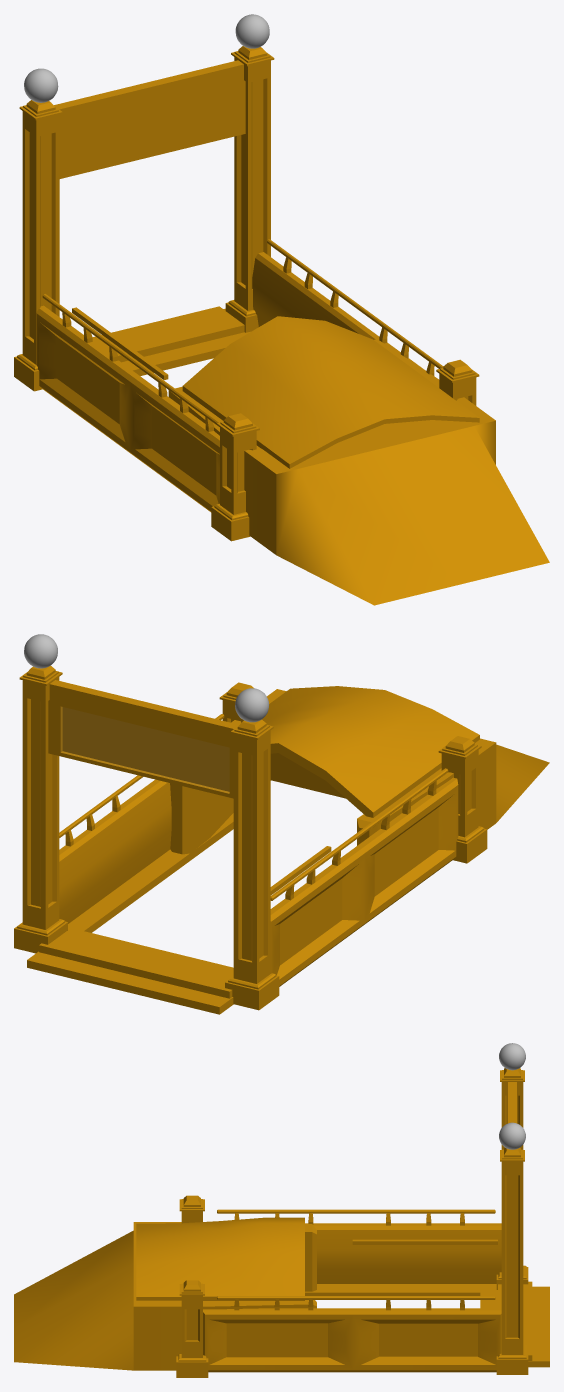
The model's file is Asset_SubwayEntrance.fbx.
3 views of the same model, one above another, from view 1: azimuth 30°, elevation 25°; view 2: azimuth 150°, elevation 25°; view 3: azimuth 270°, elevation 25° (orthographic). The views are drawn at different scales.
Visible parts, largest first — view 1: TrainTunnelEntrance01; view 2: TrainTunnelEntrance01; view 3: TrainTunnelEntrance01.
Boxes of the visible parts, x1,y1,x2,y2 form: TrainTunnelEntrance01: (14, 14, 549, 605); TrainTunnelEntrance01: (14, 634, 549, 1014); TrainTunnelEntrance01: (14, 1043, 549, 1377).
Bounding box in the file's own units: 2.98 × 3.51 × 6.91.
